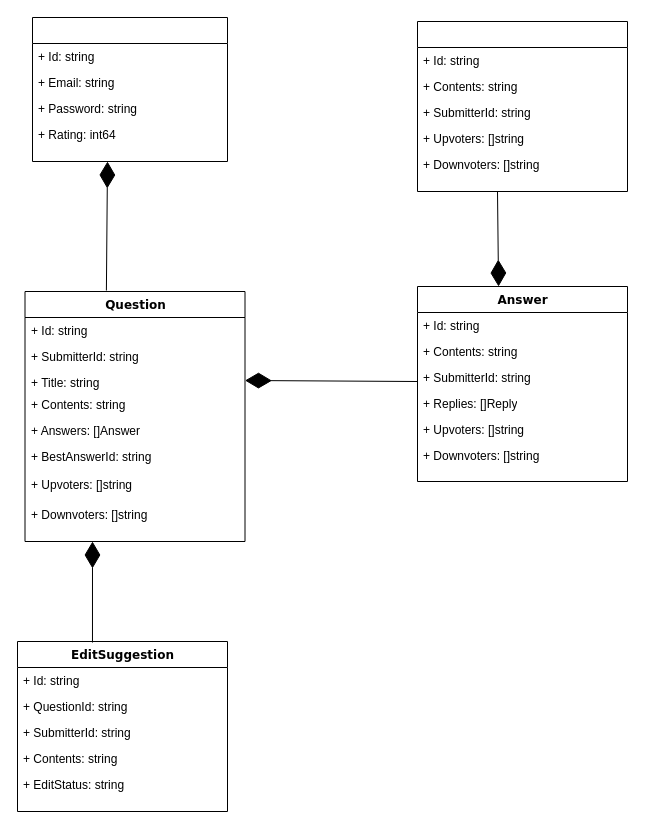
This 645x829 diagram has some shape labels left out. Here are the shapes that lost their labels. From the top down, the box of each, then its label:
(32, 16, 228, 162): User
(416, 20, 628, 192): Reply
